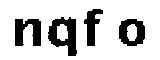f: (80, 7, 108, 50)
n: (9, 15, 44, 49)
o: (117, 17, 148, 49)
q: (43, 14, 78, 56)
